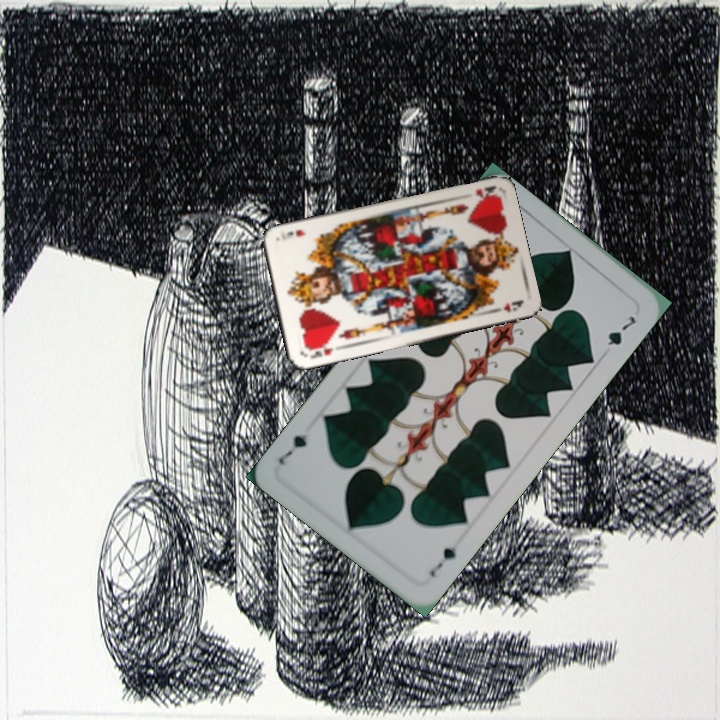G7: (425, 543, 459, 580)
HK: (301, 340, 342, 361), (472, 181, 499, 200)
